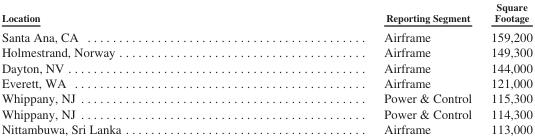table: (0, 0, 531, 135)
table column: (0, 0, 252, 135), (252, 0, 480, 135), (480, 0, 531, 135)
table column header: (0, 0, 531, 26)
table row: (0, 0, 531, 26), (0, 26, 531, 44), (0, 74, 531, 90), (0, 44, 531, 59), (0, 59, 531, 74), (0, 90, 531, 105), (0, 105, 531, 120), (0, 120, 531, 135)
